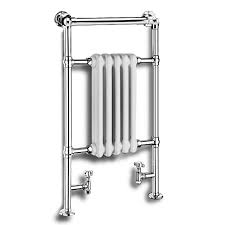Radiator: (84, 50, 142, 160)
